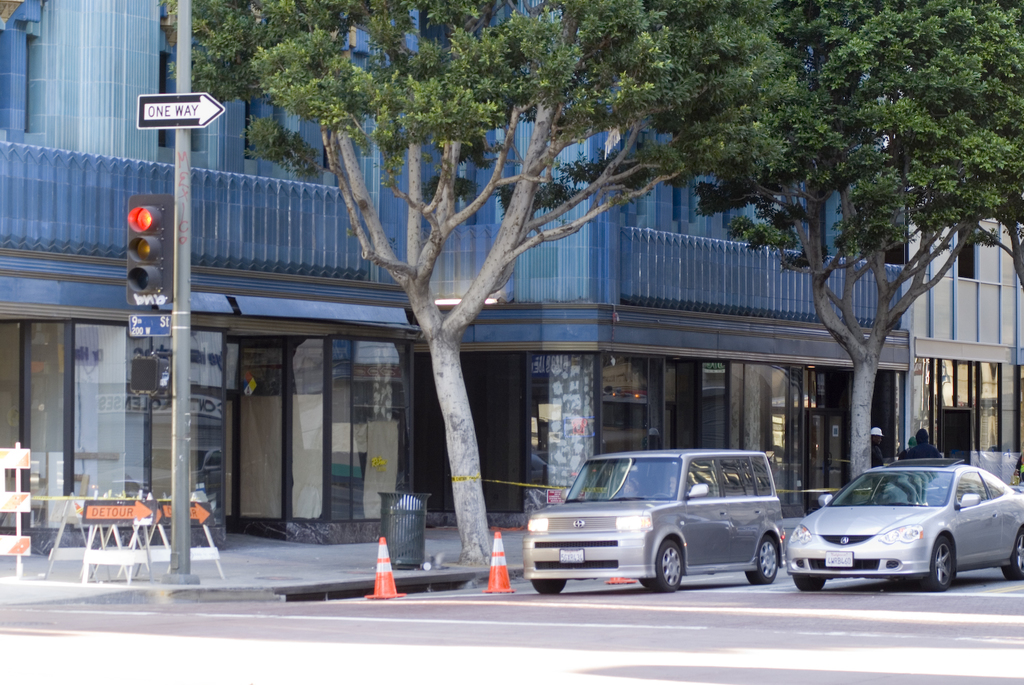Car: (524, 450, 785, 592), (787, 455, 1021, 594)
